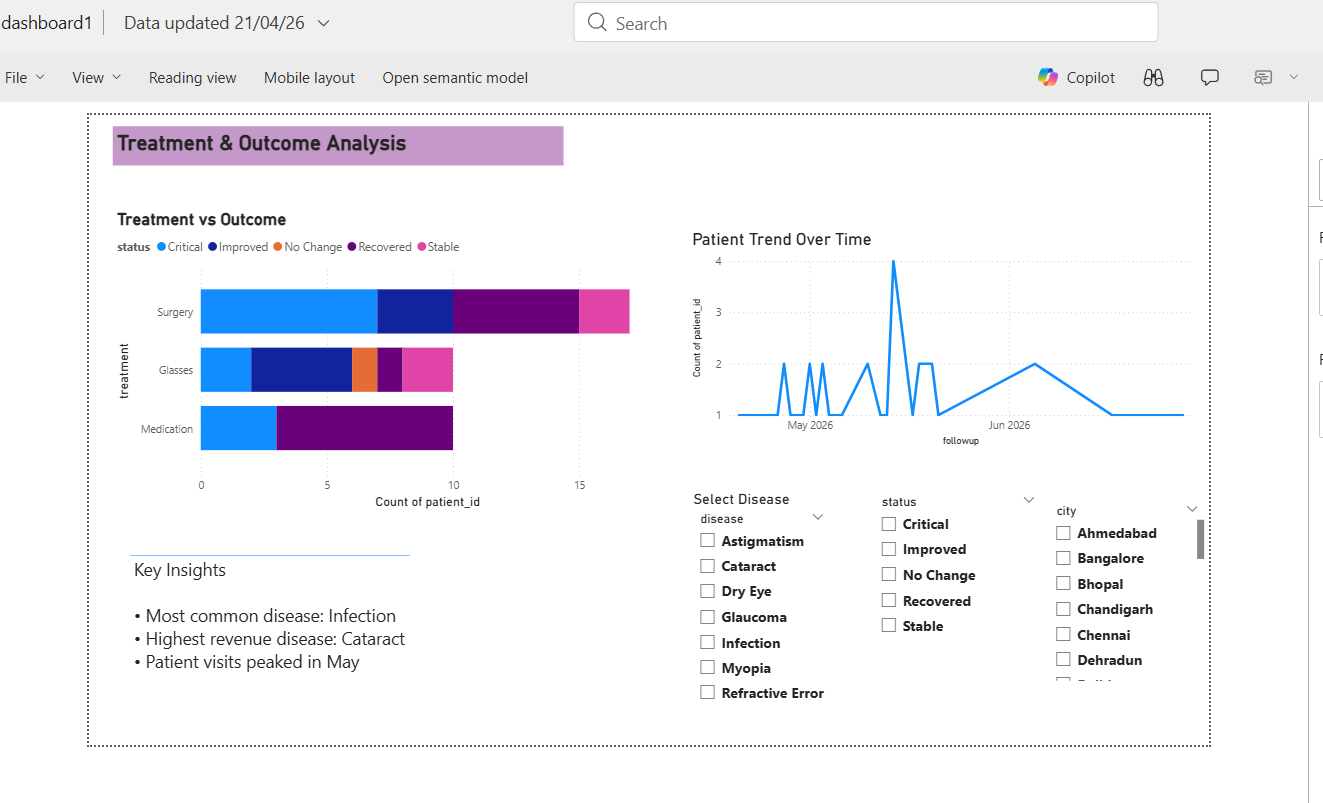

The dashboard page shown, as its layout file describes it:
{"tool":"powerbi","page":{"name":"Page 2","canvas":[1280,720],"ordinal":1},"visuals":[{"type":"textbox","box":[26.7,13.3,515,45],"z":0},{"type":"lineChart","title":"Patient Trend Over Time","fields":{"Category":["patients.followup"],"Y":["Count(patients.patient_id)"]},"box":[685,131.7,595,251.7],"z":1000},{"type":"slicer","title":"Select Disease","fields":{"Values":["patients.disease"]},"box":[686,428,166,274],"z":2000},{"type":"slicer","fields":{"Values":["patients.status"]},"box":[893.3,428.3,200,255],"z":3000},{"type":"slicer","fields":{"Values":["patients.city"]},"box":[1093.3,438.3,186.7,213.3],"z":4000},{"type":"barChart","title":"Treatment vs Outcome","fields":{"Category":["patients.treatment"],"Series":["patients.status"],"Y":["CountNonNull(patients.patient_id)"]},"box":[26.7,108.3,631.7,346.7],"z":5000},{"type":"tableEx","fields":{"Values":["patients.Final Insights"]},"box":[40,470,360,213.3],"z":6000}]}

Visuals, with their boxes on the page's 1280x720 design canvas (x1, y1, x2, y2). These are canvas units, not pixel positions in the 1323x803 screenshot, which may show the page scaled, cropped or inside an application window:
textbox: select_region(27, 13, 542, 58)
"Patient Trend Over Time" lineChart: select_region(685, 132, 1280, 383)
"Select Disease" slicer: select_region(686, 428, 852, 702)
slicer - patients.status: select_region(893, 428, 1093, 683)
slicer - patients.city: select_region(1093, 438, 1280, 652)
"Treatment vs Outcome" barChart: select_region(27, 108, 658, 455)
tableEx - patients.Final Insights: select_region(40, 470, 400, 683)
